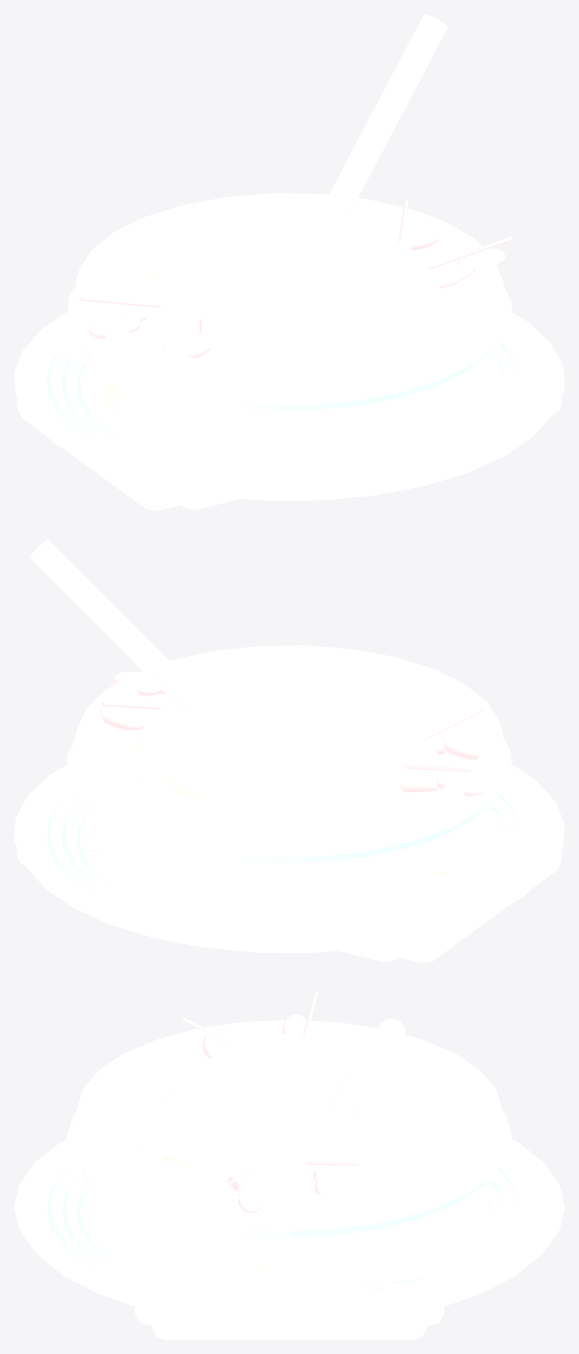
File: cook_dishes.glb
3 renders of one model, top to bottom at view 1: azimuth 30°, elevation 25°; view 2: azimuth 150°, elevation 25°; view 3: azimuth 270°, elevation 25°, orthographic.
Visible parts, largest first — view 1: bread_loaf, crayfish_boil, bram_stew, grilled_trout, strawberry_tart, fish_pie, cabbage_rolls, shortbread, garlic_bread, honey_cake, egg_omelette; view 2: bread_loaf, crayfish_boil, bram_stew, grilled_trout, strawberry_tart, fish_pie, cabbage_rolls, shortbread, honey_cake, garlic_bread; view 3: bread_loaf, crayfish_boil, grilled_trout, bram_stew, strawberry_tart, fish_pie, cabbage_rolls, garlic_bread, shortbread, honey_cake.
Part boxes in pixels (<box>): bread_loaf: <box>90,212,490,509</box>; crayfish_boil: <box>67,193,512,435</box>; bram_stew: <box>85,14,493,372</box>; grilled_trout: <box>14,312,564,500</box>; strawberry_tart: <box>89,360,489,471</box>; fish_pie: <box>82,201,496,419</box>; cabbage_rolls: <box>38,329,540,488</box>; shortbread: <box>59,343,519,475</box>; garlic_bread: <box>16,353,562,510</box>; honey_cake: <box>127,262,449,367</box>; egg_omelette: <box>161,397,473,467</box>; bread_loaf: <box>88,664,489,961</box>; crayfish_boil: <box>67,645,511,887</box>; bram_stew: <box>30,539,493,824</box>; grilled_trout: <box>14,764,564,953</box>; strawberry_tart: <box>89,813,489,923</box>; fish_pie: <box>82,653,496,871</box>; cabbage_rolls: <box>38,781,540,940</box>; shortbread: <box>59,795,519,927</box>; honey_cake: <box>135,725,443,820</box>; garlic_bread: <box>16,834,562,962</box>; bread_loaf: <box>134,1034,444,1325</box>; crayfish_boil: <box>66,991,512,1261</box>; grilled_trout: <box>14,1139,564,1327</box>; bram_stew: <box>85,1018,493,1230</box>; strawberry_tart: <box>90,1187,488,1297</box>; fish_pie: <box>82,1028,496,1246</box>; cabbage_rolls: <box>38,1157,540,1314</box>; garlic_bread: <box>151,1254,427,1339</box>; shortbread: <box>59,1169,519,1309</box>; honey_cake: <box>132,1078,449,1194</box>.
Bounding box in the file's own units: 0.32 × 0.2056 × 0.32.
